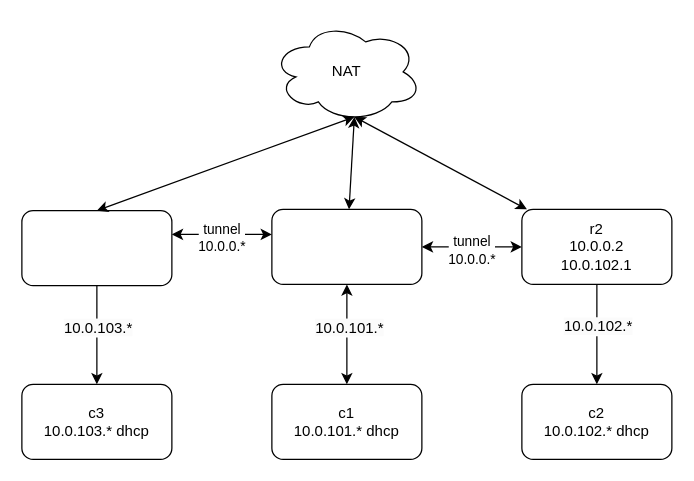
Image size: 694x481. Some labels were removed from this diagram. Each missing label, with the box of its shape:
r1 10.0.0.1 10.0.101.1: (271, 208, 422, 284)
r3 10.0.0.3 10.0.103.1: (21, 209, 172, 286)
